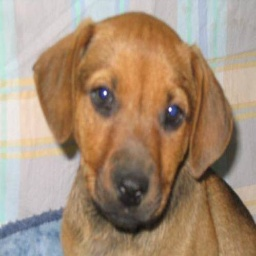dog: (29, 9, 256, 256)
